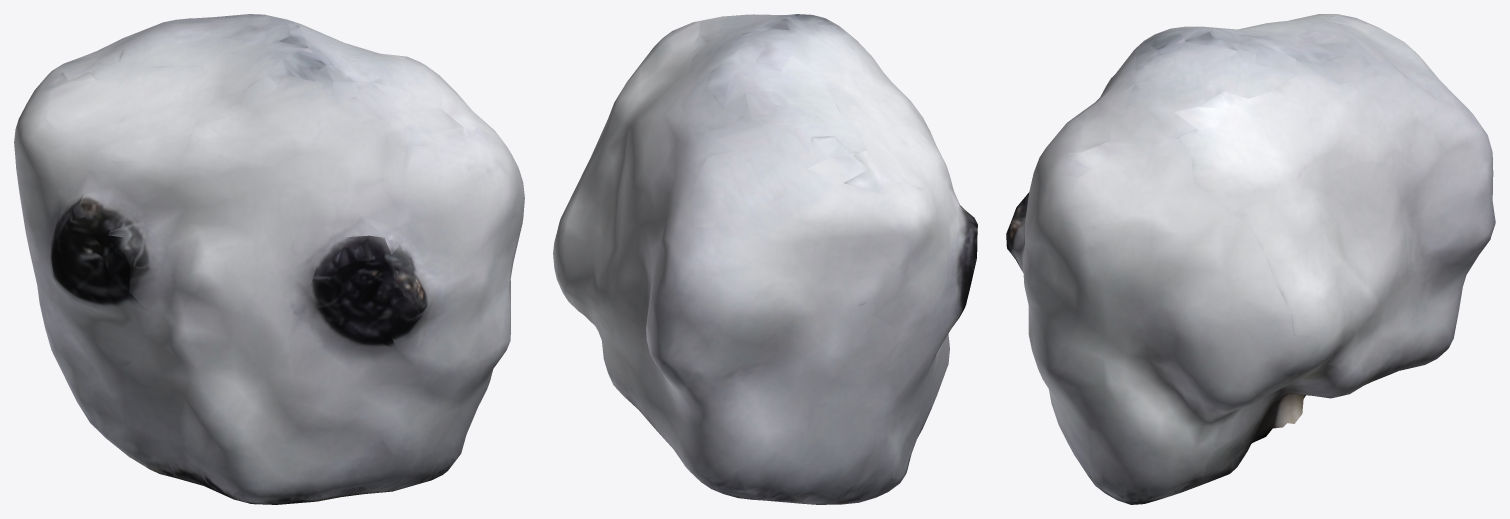
Rendered from mainSoul_80%.fbx.
3 renders of one model, left to right at view 1: azimuth 30°, elevation 25°; view 2: azimuth 150°, elevation 25°; view 3: azimuth 270°, elevation 25°, orthographic. The views are drawn at different scales.
Visible parts, largest first — view 1: Default_fracturepart; view 2: Default_fracturepart; view 3: Default_fracturepart.
Part boxes in pixels (x1,y1,x2,y2): Default_fracturepart: (14,14,524,504); Default_fracturepart: (553,14,977,504); Default_fracturepart: (1006,14,1495,504).
Bounding box in the file's own units: 38 × 39.84 × 41.89.
1 material, 1 textured.
